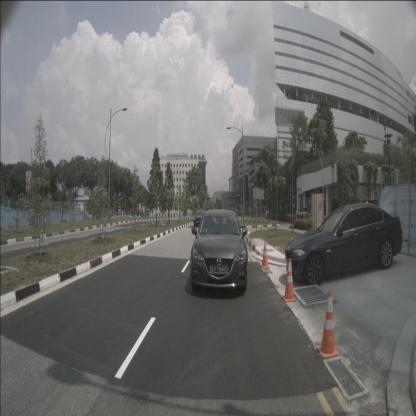cone: (316, 289, 341, 359), (282, 258, 296, 302), (260, 240, 270, 269)
